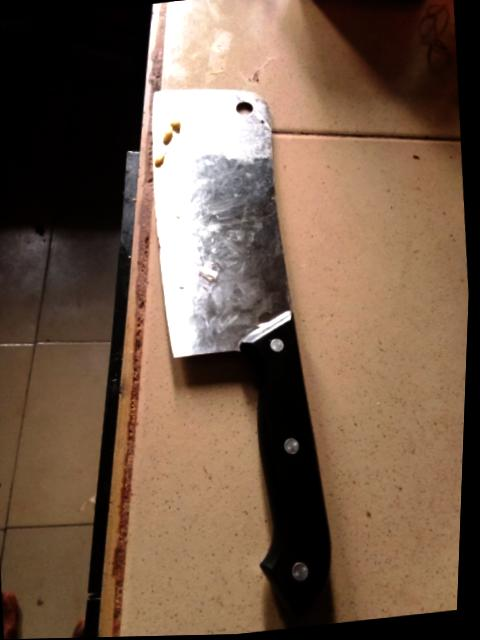Knife: (153, 89, 330, 616)
